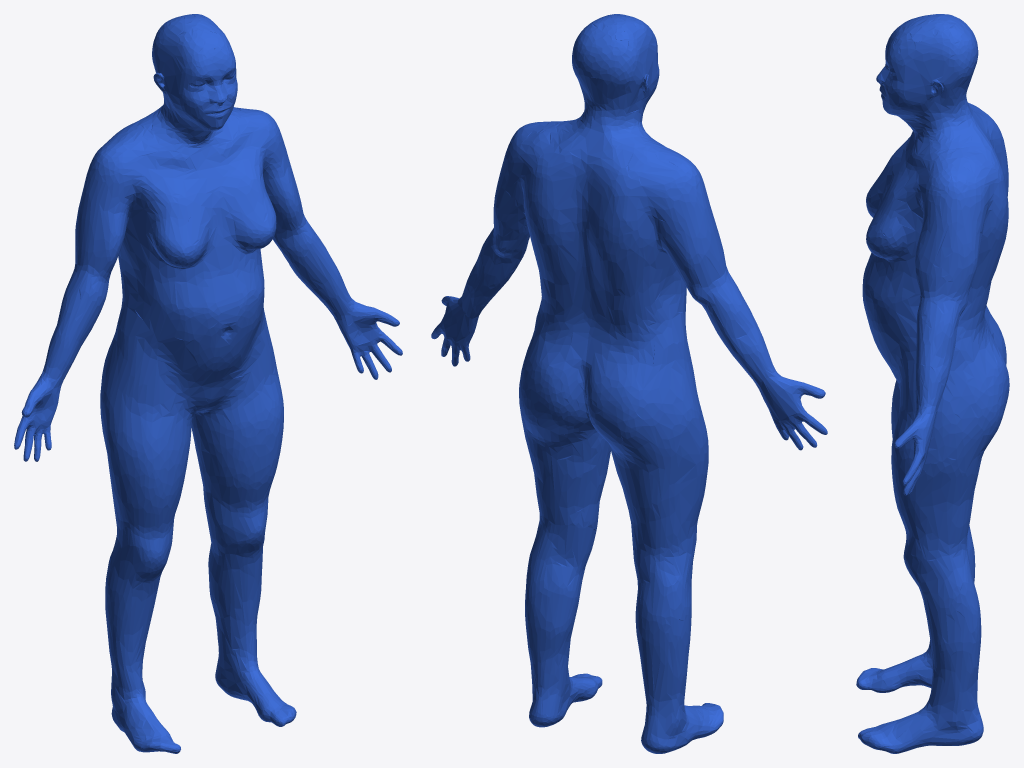
File: skin_shell.glb
The picture shows the model from 3 angles, left to right: view 1: azimuth 30°, elevation 25°; view 2: azimuth 150°, elevation 25°; view 3: azimuth 270°, elevation 25°; orthographic projection.
Visible parts, largest first — view 1: VH_F_skin; view 2: VH_F_skin; view 3: VH_F_skin.
Part boxes in pixels (bbox=[...]): VH_F_skin: bbox=[14, 14, 402, 753]; VH_F_skin: bbox=[431, 14, 827, 753]; VH_F_skin: bbox=[856, 14, 1009, 753].
Size of the model in its own units: 0.9673 by 1.67 by 0.3291.
